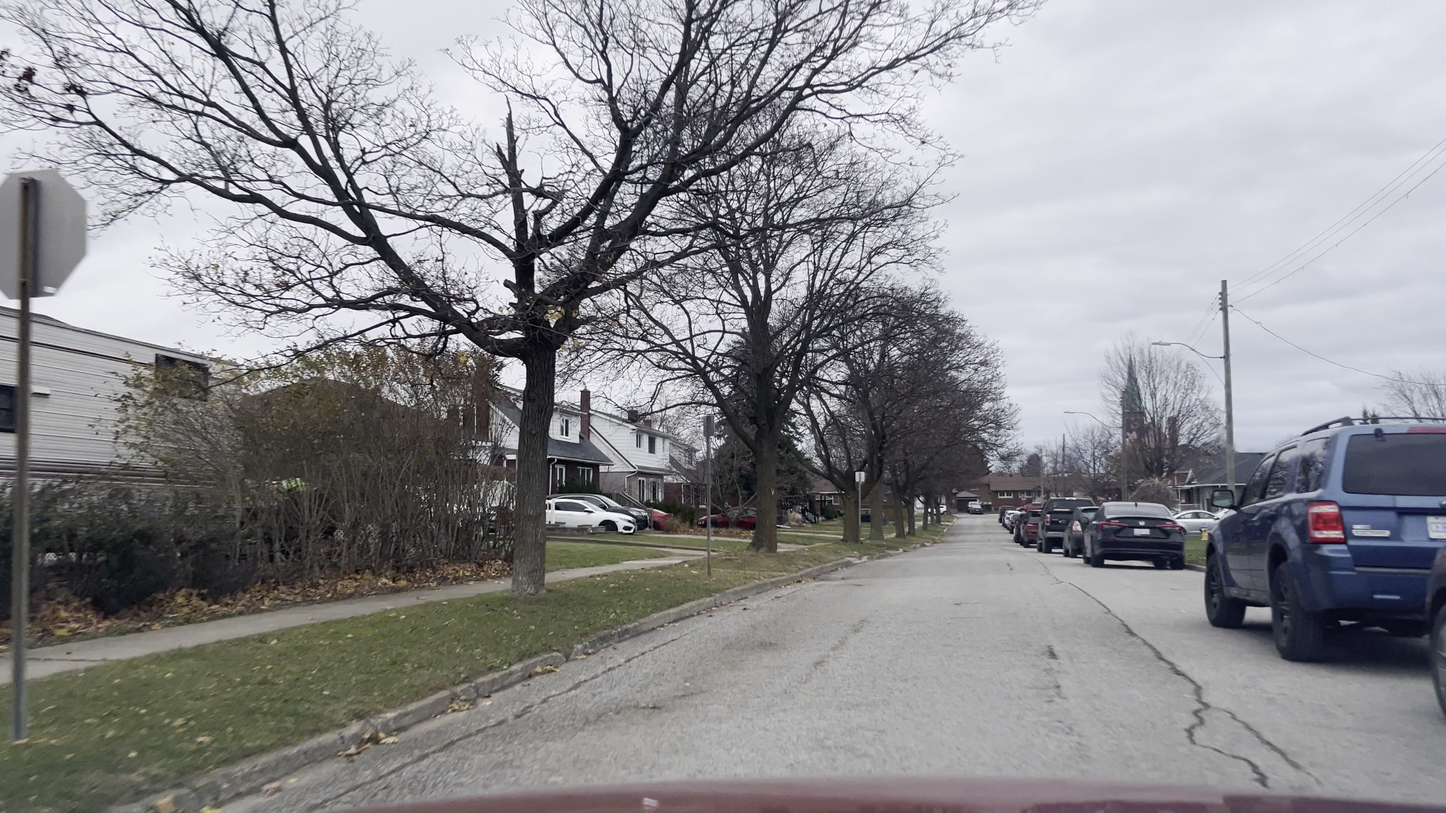cracks: (1173, 720, 1293, 782), (1125, 626, 1209, 712), (1066, 580, 1120, 616)
